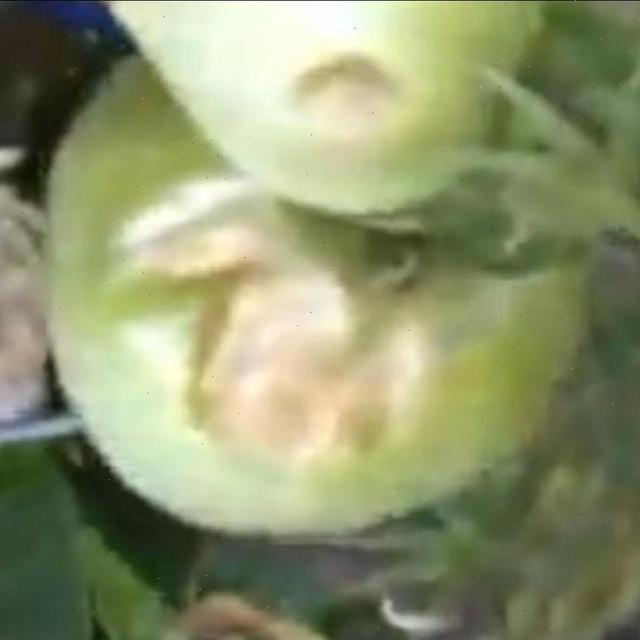Sunscald Fruit: (106, 55, 232, 218)
